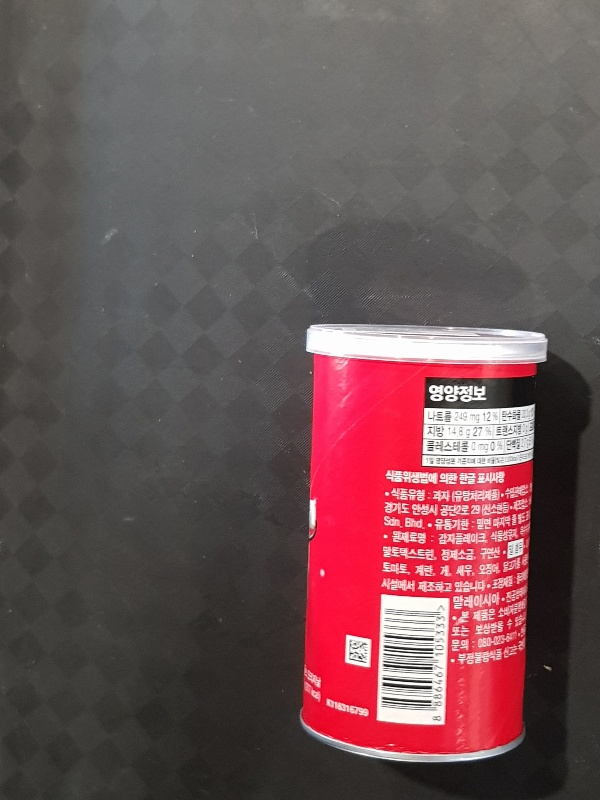Pringles Original: (295, 321, 549, 764)
